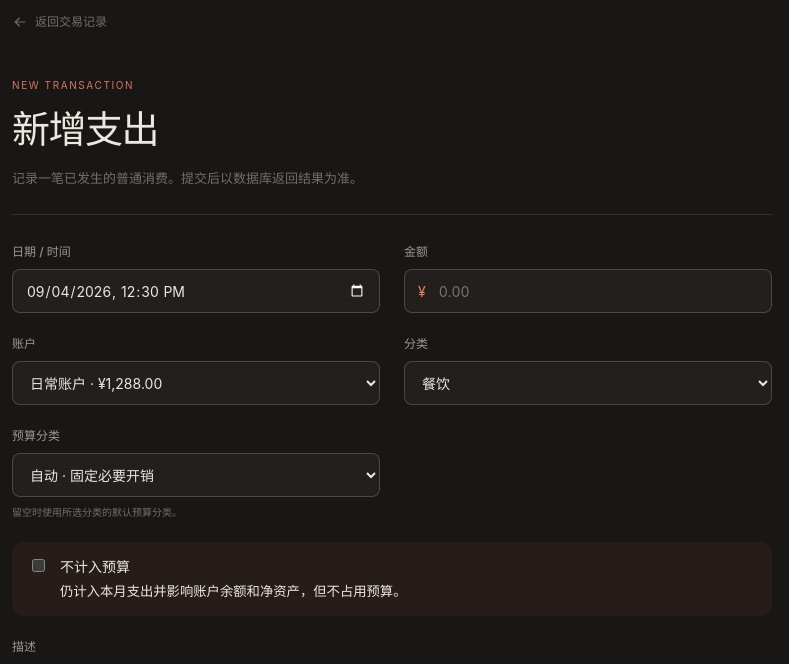
Test case: ExpenseTransactionForm › lets the user explicitly exclude a real expense from budget execution
Click the checkbox labelled "不计入预算". click: (38, 566)
box: [32,559,45,572]
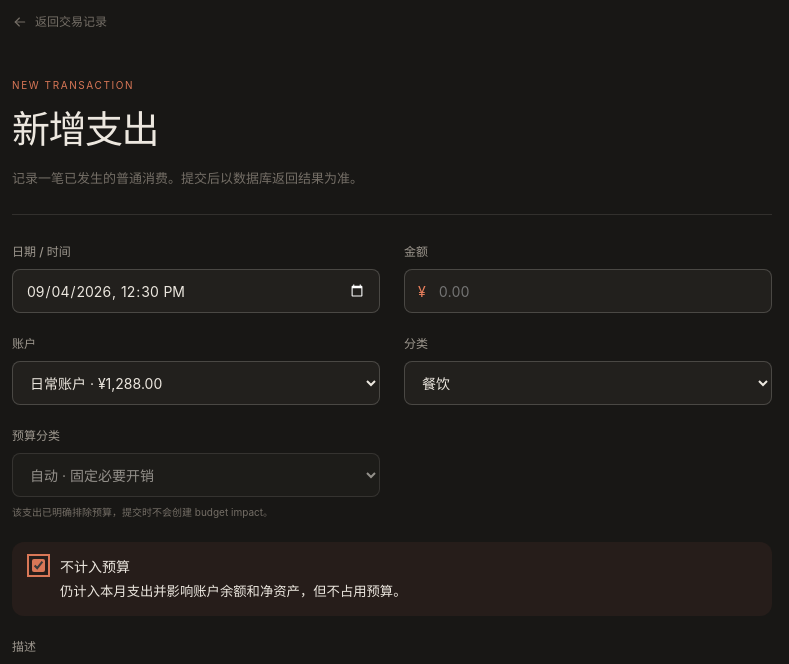
Expected: the text "仍计入本月支出并影响账户余额和净资产，但不占用预算。" is shown, [60,581,406,602]
Expected: the dropdown labelled "预算分类" is disabled, [12,453,380,497]
